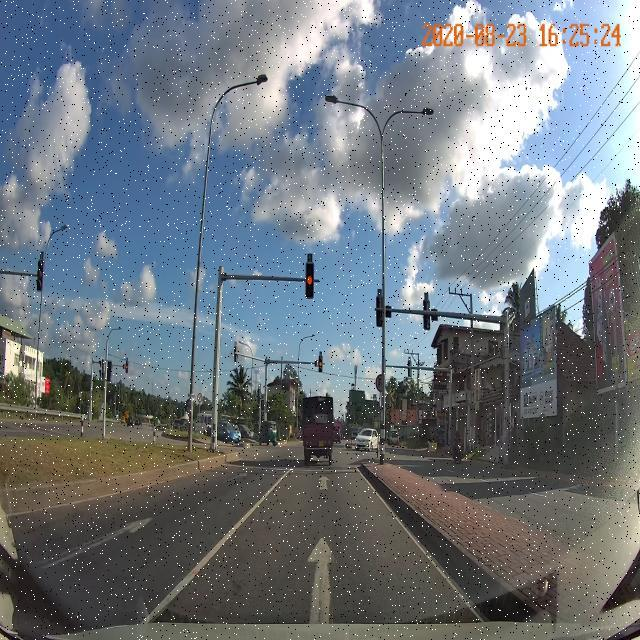forward: (150, 522, 490, 618)
